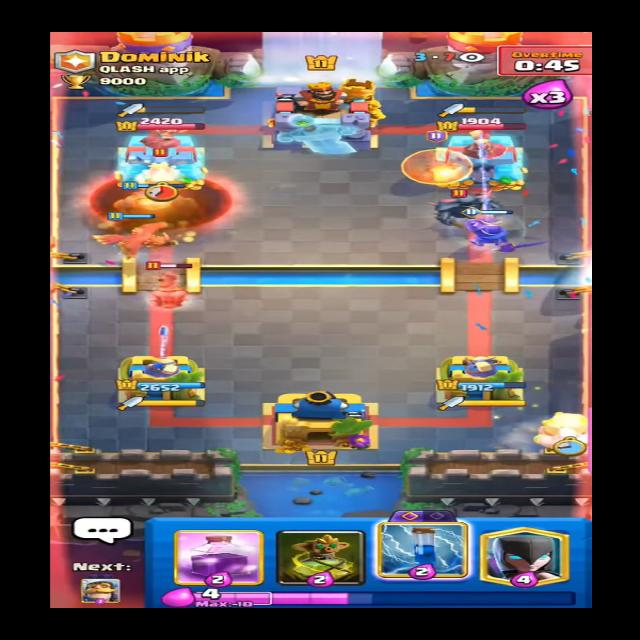evo-wizard: (396, 135, 484, 190)
pekka: (426, 182, 504, 225)
ram-rider: (140, 252, 202, 308)
royal-ghost: (134, 156, 190, 188)
void: (90, 171, 233, 228)
